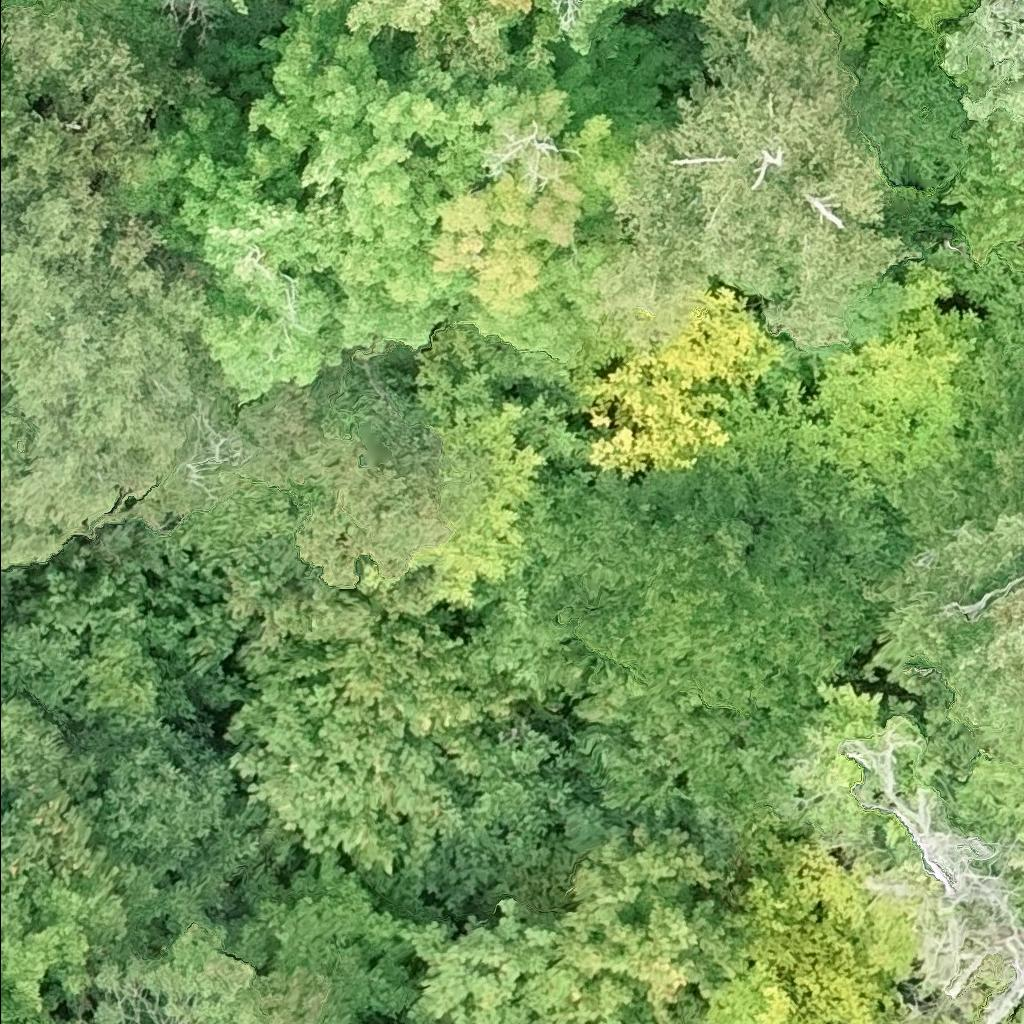crown: (583, 0, 924, 343), (388, 7, 678, 367), (191, 0, 474, 352), (0, 155, 211, 566), (223, 616, 546, 879), (101, 93, 344, 408), (404, 812, 739, 1023), (558, 489, 866, 715), (411, 349, 597, 611), (805, 259, 988, 496), (701, 829, 920, 1023), (581, 287, 784, 481), (0, 0, 158, 188), (67, 920, 354, 1023), (698, 375, 843, 475), (346, 0, 520, 82), (827, 0, 973, 79), (519, 0, 639, 74), (952, 751, 1023, 842), (488, 0, 534, 17), (287, 0, 340, 8), (1009, 852, 1023, 878), (236, 0, 251, 16), (29, 1014, 52, 1023), (261, 0, 271, 2)
